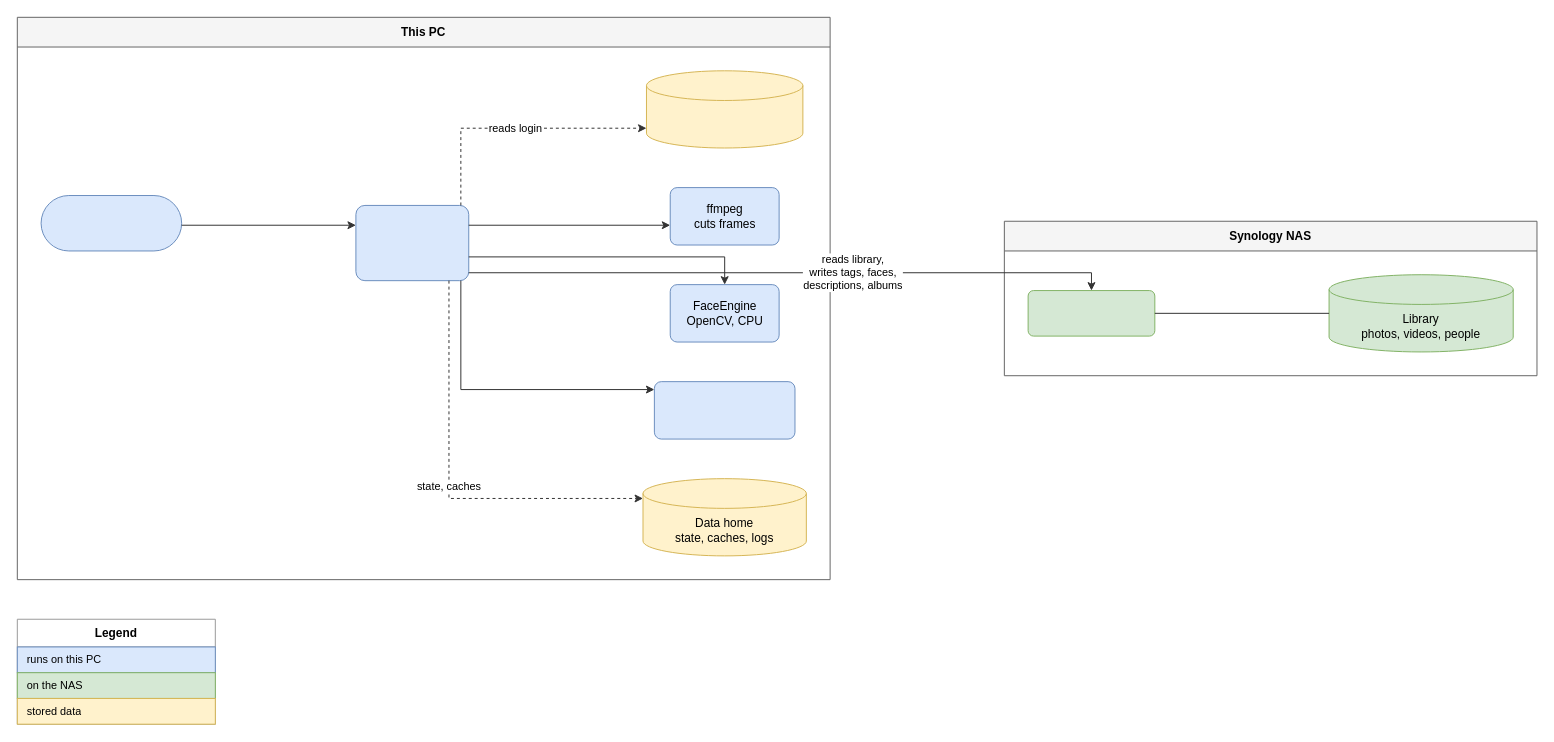
Image size: 1554x742. Some labels were removed from this diagram. Here are the shapes that lost their labels. From the top down, the centre of each, then its label:
the point at 724,109: Credential Manager NAS login
the point at 111,223: Task Scheduler daily
the point at 412,242: videotag run
the point at 1091,313: Photos web API
the point at 724,410: Describer Qwen3-VL 4B, GPU
